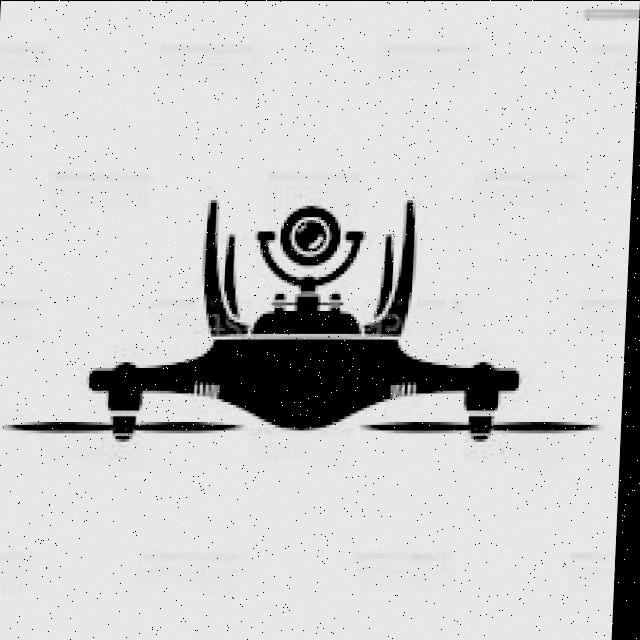drone: (3, 125, 624, 495)
